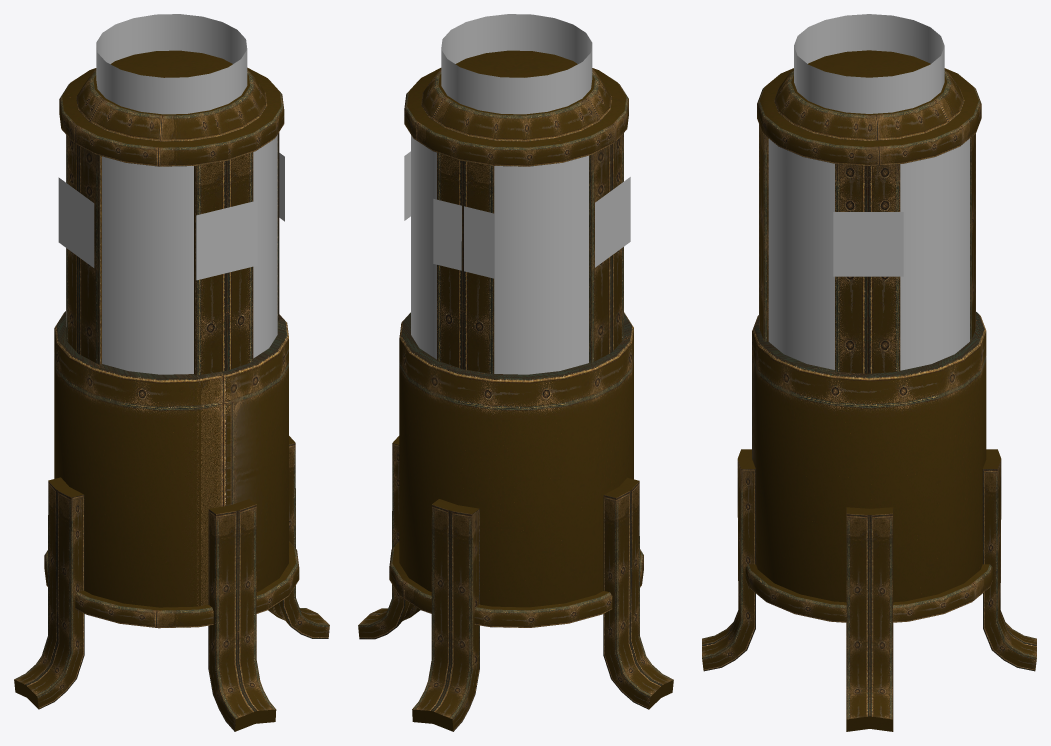
Rendered from mdl_env_propLanternTorchA_light.fbx.
3 renders of one model, left to right at view 1: azimuth 30°, elevation 25°; view 2: azimuth 150°, elevation 25°; view 3: azimuth 270°, elevation 25°, orthographic.
Visible parts, largest first — view 1: mdl_env_propLanternTorchA_light; view 2: mdl_env_propLanternTorchA_light; view 3: mdl_env_propLanternTorchA_light.
Boxes of the visible parts, <box> form: mdl_env_propLanternTorchA_light: <box>14,14,329,731</box>; mdl_env_propLanternTorchA_light: <box>358,14,673,731</box>; mdl_env_propLanternTorchA_light: <box>702,14,1036,731</box>.
Size of the model in its own units: 115 by 233 by 115.
